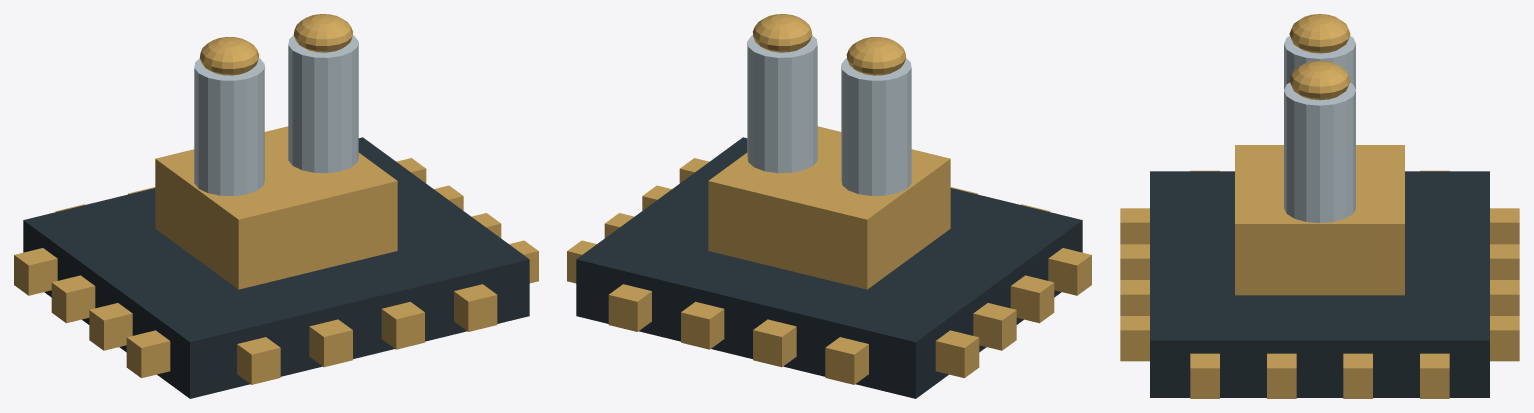
The model's file is plugin-lightweight-attack.glb.
3 views of the same model, side by side, from view 1: azimuth 30°, elevation 25°; view 2: azimuth 150°, elevation 25°; view 3: azimuth 270°, elevation 25° (orthographic).
Visible parts, largest first — view 1: plugin circuit substrate, processor block, overdrive capacitor, overdrive capacitor.001, charged cap.001, charged cap, gold edge connector, gold edge connector.009, gold edge connector.011, gold edge connector.008, gold edge connector.010, gold edge connector.002 (+3 smaller); view 2: plugin circuit substrate, processor block, overdrive capacitor, overdrive capacitor.001, charged cap.001, charged cap, gold edge connector.003, gold edge connector.013, gold edge connector.015, gold edge connector.012, gold edge connector.014, gold edge connector.001 (+3 smaller); view 3: plugin circuit substrate, processor block, overdrive capacitor.001, charged cap, charged cap.001, overdrive capacitor, gold edge connector.004, gold edge connector.005, gold edge connector.006, gold edge connector.007, gold edge connector.011, gold edge connector.015 (+6 smaller).
Boxes of the visible parts, x1=… form: plugin circuit substrate: x1=23, y1=137, x2=529, y2=398; processor block: x1=155, y1=126, x2=397, y2=289; overdrive capacitor: x1=194, y1=58, x2=264, y2=195; overdrive capacitor.001: x1=288, y1=35, x2=358, y2=173; charged cap.001: x1=293, y1=14, x2=352, y2=52; charged cap: x1=200, y1=37, x2=259, y2=75; gold edge connector: x1=126, y1=330, x2=170, y2=378; gold edge connector.009: x1=309, y1=319, x2=352, y2=367; gold edge connector.011: x1=454, y1=284, x2=497, y2=331; gold edge connector.008: x1=237, y1=337, x2=280, y2=384; gold edge connector.010: x1=381, y1=301, x2=424, y2=349; gold edge connector.002: x1=51, y1=275, x2=95, y2=323; plugin circuit substrate: x1=576, y1=137, x2=1082, y2=398; processor block: x1=708, y1=126, x2=950, y2=289; overdrive capacitor: x1=841, y1=58, x2=911, y2=195; overdrive capacitor.001: x1=747, y1=35, x2=817, y2=173; charged cap.001: x1=753, y1=14, x2=812, y2=52; charged cap: x1=846, y1=37, x2=905, y2=75; gold edge connector.003: x1=935, y1=330, x2=979, y2=378; gold edge connector.013: x1=753, y1=319, x2=796, y2=367; gold edge connector.015: x1=608, y1=284, x2=651, y2=331; gold edge connector.012: x1=825, y1=337, x2=868, y2=384; gold edge connector.014: x1=681, y1=301, x2=724, y2=349; gold edge connector.001: x1=1010, y1=275, x2=1054, y2=323; plugin circuit substrate: x1=1150, y1=171, x2=1489, y2=397; processor block: x1=1235, y1=145, x2=1404, y2=295; overdrive capacitor.001: x1=1284, y1=82, x2=1355, y2=222; charged cap: x1=1289, y1=14, x2=1350, y2=53; charged cap.001: x1=1289, y1=60, x2=1350, y2=100; overdrive capacitor: x1=1284, y1=36, x2=1355, y2=89; gold edge connector.004: x1=1190, y1=353, x2=1219, y2=398; gold edge connector.005: x1=1267, y1=353, x2=1296, y2=398; gold edge connector.006: x1=1343, y1=353, x2=1372, y2=398; gold edge connector.007: x1=1420, y1=353, x2=1449, y2=398; gold edge connector.011: x1=1120, y1=316, x2=1149, y2=361; gold edge connector.015: x1=1490, y1=316, x2=1519, y2=361.
Size of the model in its own units: 1.1 by 0.705 by 0.94.
